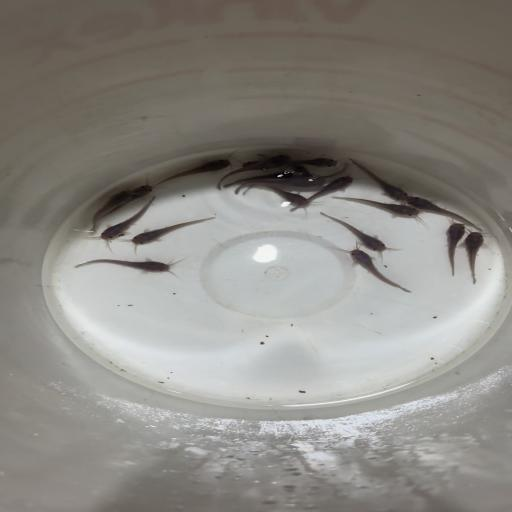lele: (320, 210, 402, 253), (123, 216, 218, 252), (340, 246, 414, 292), (96, 196, 160, 246), (408, 194, 484, 232), (348, 157, 409, 201), (214, 153, 290, 188), (153, 156, 236, 188), (73, 253, 182, 277), (330, 191, 420, 219), (296, 176, 354, 218), (80, 188, 132, 232), (104, 182, 158, 222), (230, 176, 327, 194), (225, 166, 306, 187), (438, 218, 466, 276), (244, 184, 306, 209), (462, 229, 486, 284), (291, 163, 352, 177), (237, 155, 301, 168), (295, 154, 337, 168)
